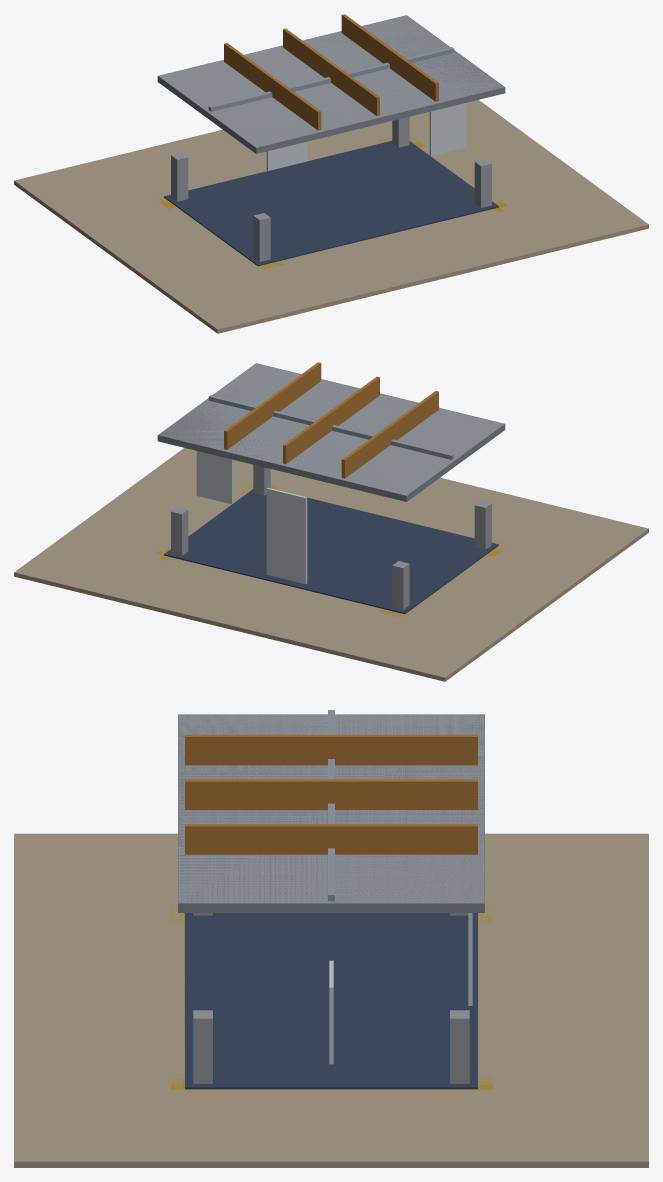
Rendered from stage_09_roof_structure.glb.
3 renders of one model, top to bottom at view 1: azimuth 30°, elevation 25°; view 2: azimuth 150°, elevation 25°; view 3: azimuth 270°, elevation 25°, orthographic. The views are drawn at different scales.
Parts seen in each view (by area): view 1: world; view 2: world; view 3: world.
Boxes of the visible parts, x1,y1,x2,y2 form: world: [14, 14, 648, 333]; world: [14, 362, 648, 681]; world: [14, 710, 648, 1167].
Bounding box in the file's own units: 11 × 4.2 × 9.
